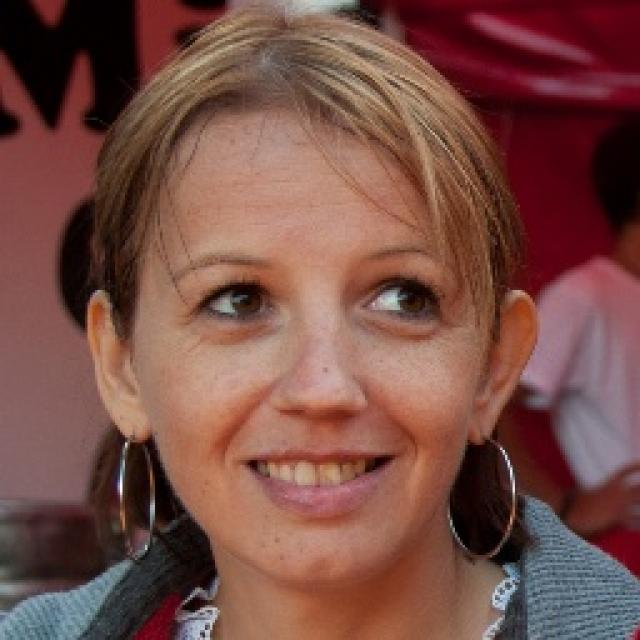earlobe: (468, 289, 542, 447), (89, 290, 155, 444)
